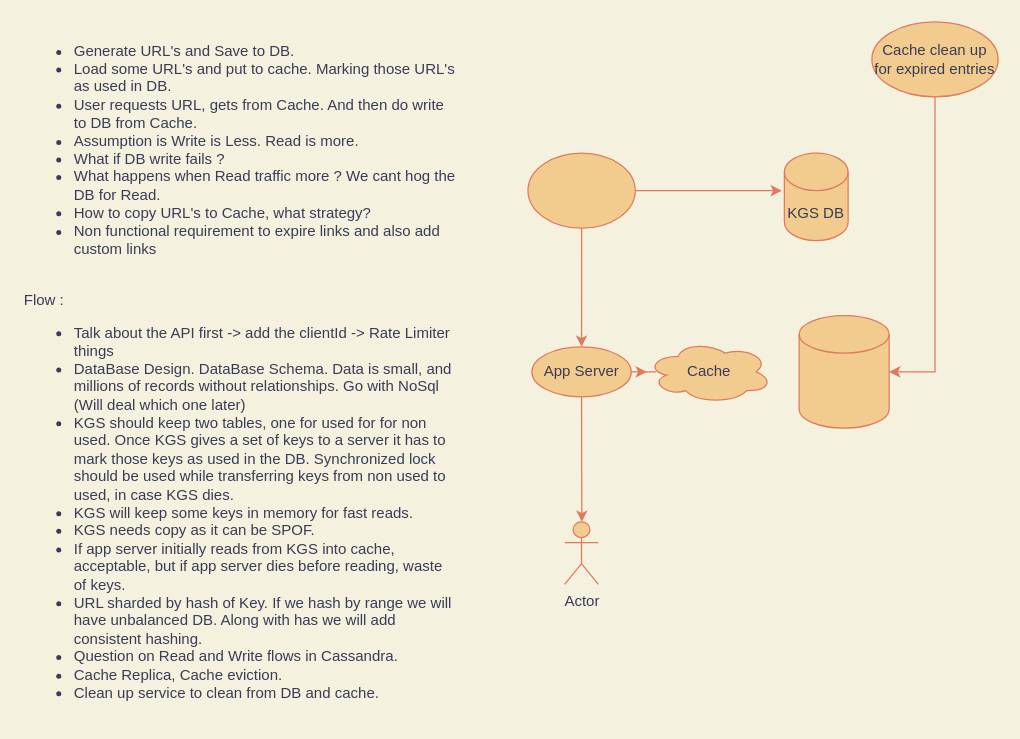
Image size: 1020x739. Some labels were removed from this diagram. The shapes that lost their labels are listed below. From the top down, each one's box as (x1, y1, x2, y2) in pixels, then its label:
(527, 152, 635, 228): KGS
(798, 314, 889, 428): URL sharded by hash of key
